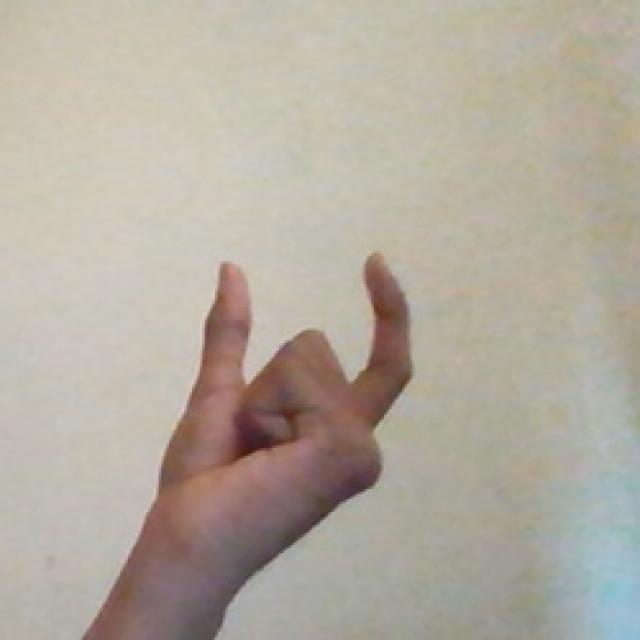Alphabet-U: (142, 222, 430, 574)
